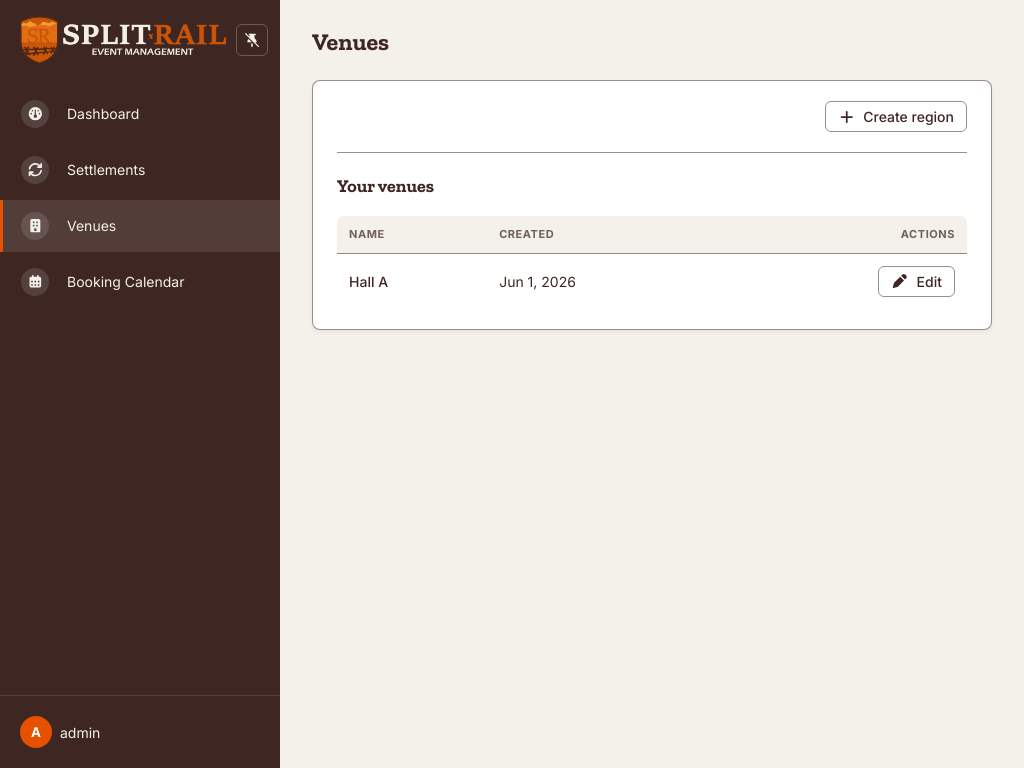
Test: VenuesPage › canceling delete from the edit modal returns to the edit form
The width and height of the screenshot is (1024, 768).
Click the button "Edit".
click(917, 281)  # box [878,266,955,296]
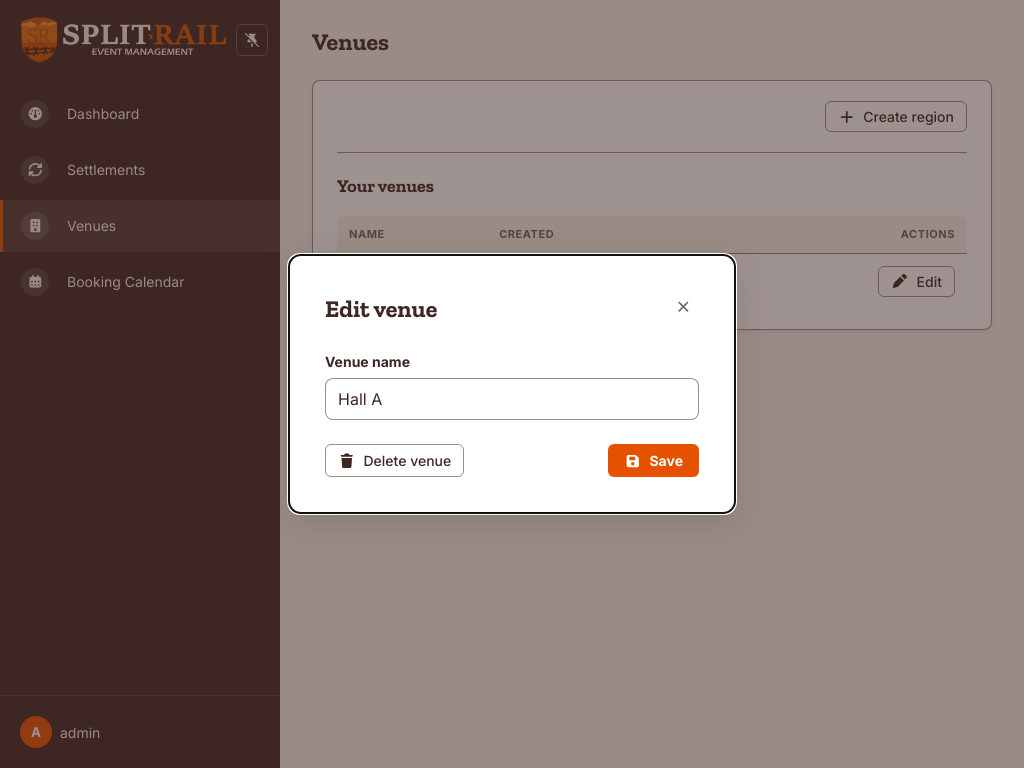
Click the button with test id "venue-edit-delete".
click(395, 460)  # box [325,444,464,477]
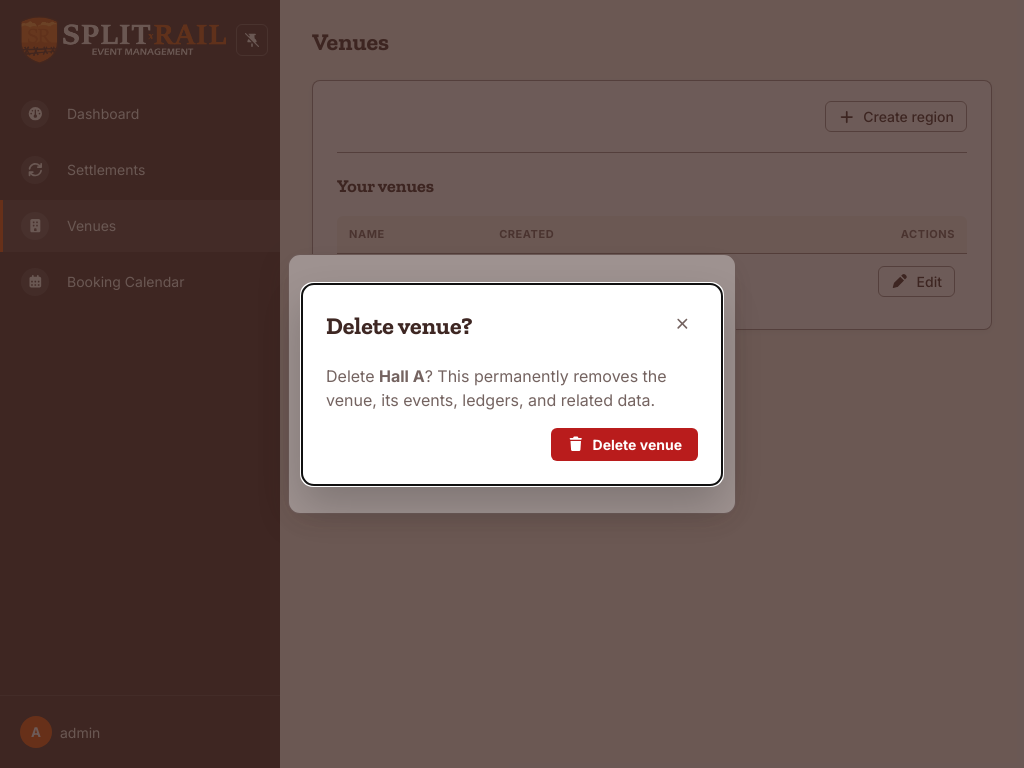
Click the button named "Close".
click(682, 324)  # box [666,308,698,340]
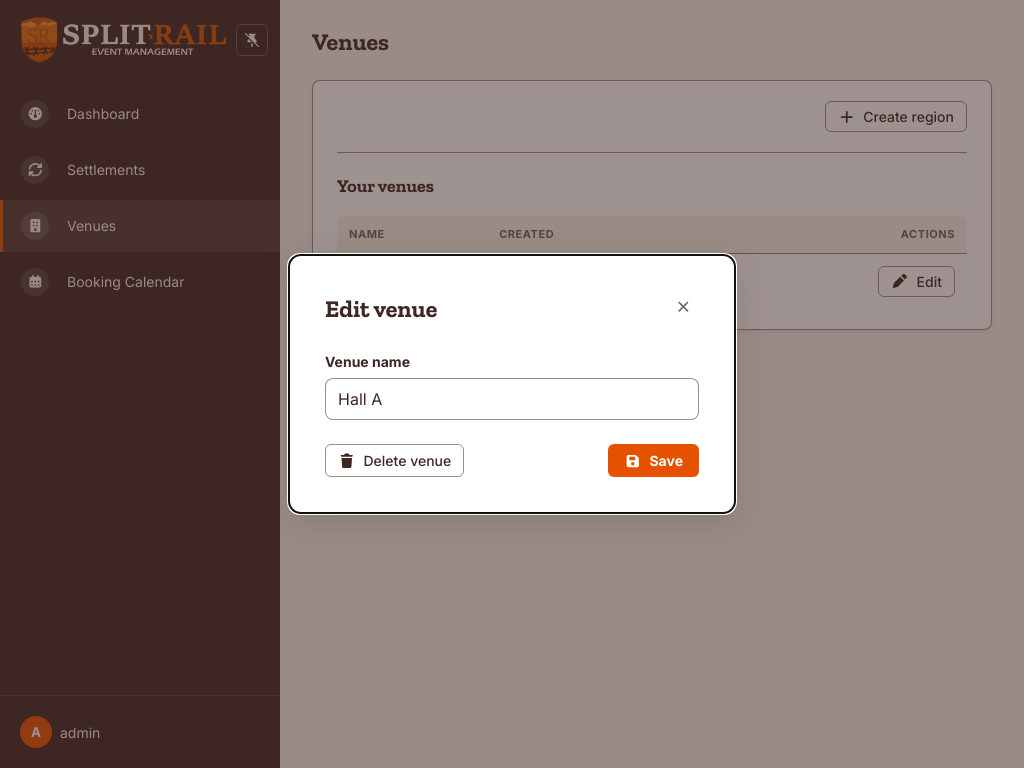
expect the dialog with test id "venue-edit-modal" is shown: met, box [288,254,736,514]
expect the dialog with test id "delete-venue-confirm" is gone: met
